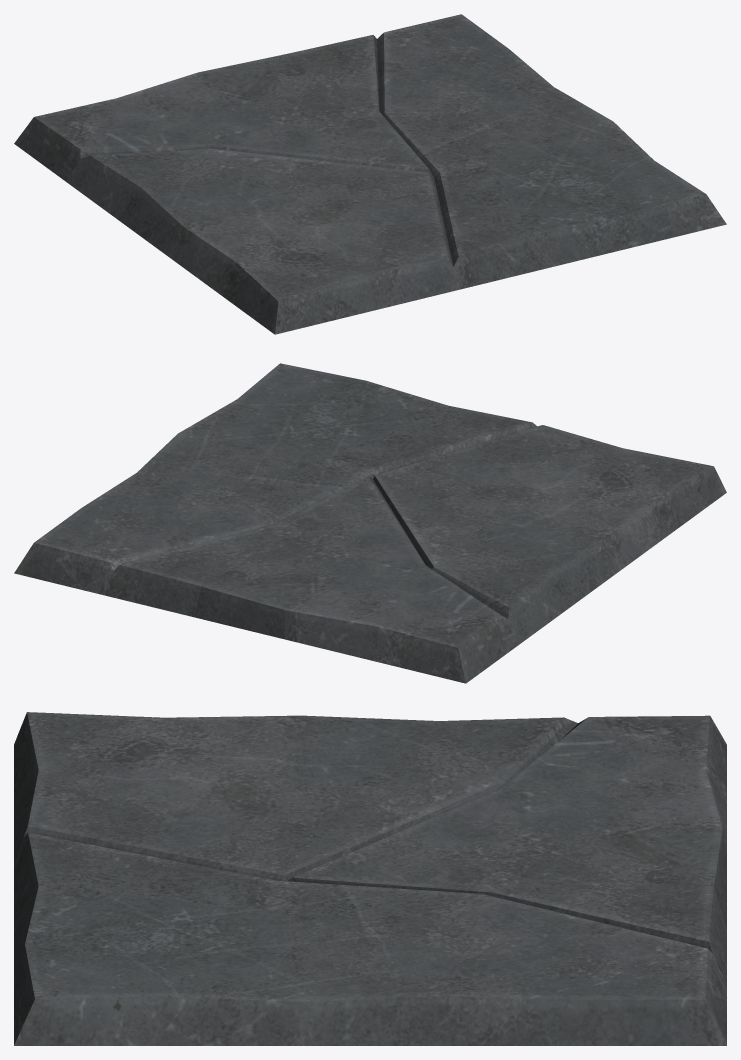
The model's file is Floor3.fbx.
3 views of the same model, one above another, from view 1: azimuth 30°, elevation 25°; view 2: azimuth 150°, elevation 25°; view 3: azimuth 270°, elevation 25° (orthographic). The views are drawn at different scales.
Visible parts, largest first — view 1: FLOOR_Type3; view 2: FLOOR_Type3; view 3: FLOOR_Type3.
Boxes of the visible parts, <box> form: FLOOR_Type3: <box>14,14,726,334</box>; FLOOR_Type3: <box>14,363,726,683</box>; FLOOR_Type3: <box>14,712,726,1045</box>.
Size of the model in its own units: 8 by 0.4709 by 8.
Materials: 1 (1 with a texture image).
